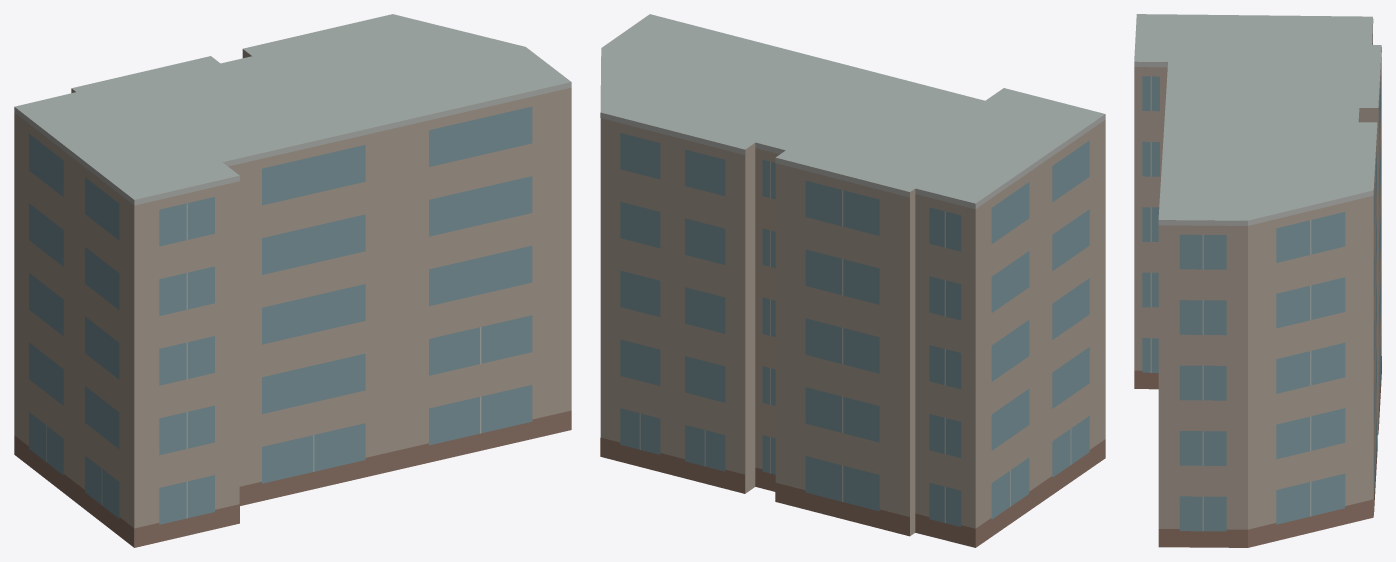
File: survey-upis-32534228.glb
3 views of the same model, side by side, from view 1: azimuth 30°, elevation 25°; view 2: azimuth 150°, elevation 25°; view 3: azimuth 270°, elevation 25° (orthographic). The views are drawn at different scales.
Parts seen in each view (by area): view 1: survey-upis-32534228.tmp; view 2: survey-upis-32534228.tmp; view 3: survey-upis-32534228.tmp.
Part boxes in pixels (x1,y1,x2,y2): survey-upis-32534228.tmp: (14,14,571,547); survey-upis-32534228.tmp: (600,14,1105,547); survey-upis-32534228.tmp: (1134,14,1381,547).
Bounding box in the file's own units: 20.68 × 15.25 × 10.47.
